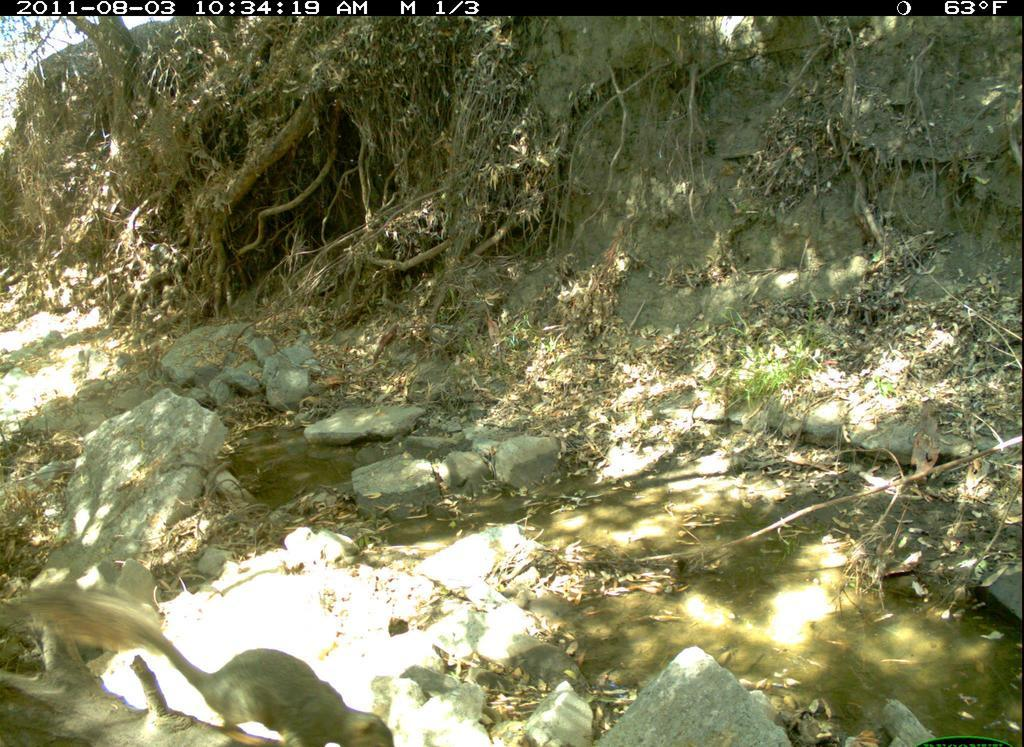squirrel: (7, 584, 432, 747)
